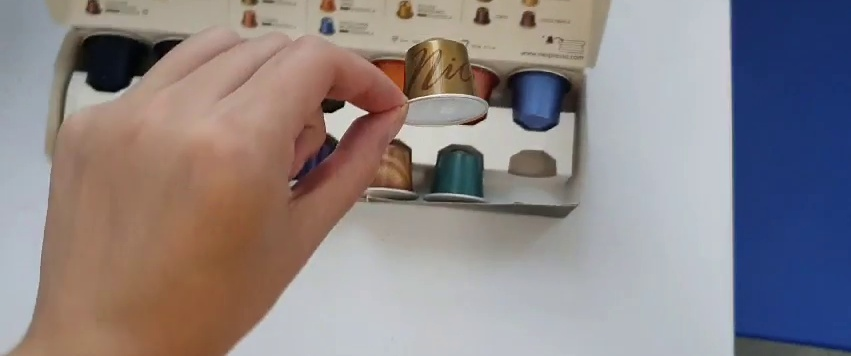capsule_9: (386, 36, 492, 131)
